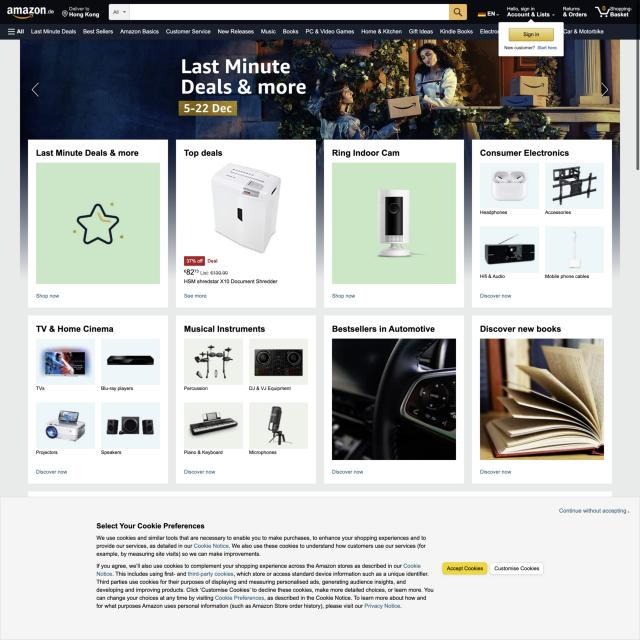input: (109, 3, 468, 20)
logo: (5, 5, 56, 20)
navigation: (29, 27, 475, 36), (6, 27, 26, 37)
